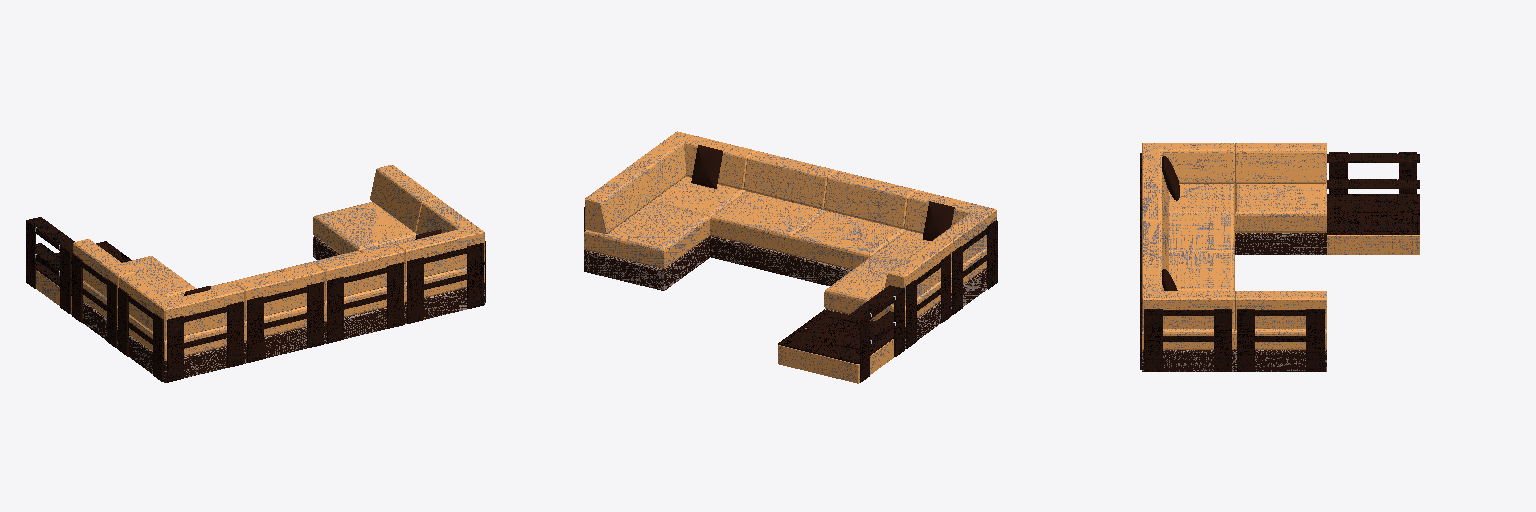
3 views of the same model, side by side, from view 1: azimuth 30°, elevation 25°; view 2: azimuth 150°, elevation 25°; view 3: azimuth 270°, elevation 25° (orthographic).
Visible parts, largest first — view 1: mesh10_mesh10-geometry, mesh14_mesh14-geometry, mesh3_mesh3-geometry, mesh2_mesh2-geometry, mesh11_mesh11-geometry, mesh12_mesh12-geometry, mesh13_mesh13-geometry, mesh1_mesh1-geometry, mesh6_mesh6-geometry; view 2: mesh10_mesh10-geometry, mesh14_mesh14-geometry, mesh11_mesh11-geometry, mesh13_mesh13-geometry, mesh12_mesh12-geometry, mesh8_mesh8-geometry, mesh7_mesh7-geometry, mesh3_mesh3-geometry, mesh2_mesh2-geometry, mesh15_mesh15-geometry, mesh6_mesh6-geometry, mesh1_mesh1-geometry; view 3: mesh10_mesh10-geometry, mesh14_mesh14-geometry, mesh11_mesh11-geometry, mesh12_mesh12-geometry, mesh13_mesh13-geometry, mesh8_mesh8-geometry, mesh2_mesh2-geometry, mesh3_mesh3-geometry, mesh7_mesh7-geometry, mesh6_mesh6-geometry, mesh1_mesh1-geometry, mesh9_mesh9-geometry.
Part boxes in pixels (left/top/right/bottom): mesh10_mesh10-geometry: left=83, top=202, right=484, bottom=360; mesh14_mesh14-geometry: left=73, top=165, right=437, bottom=320; mesh3_mesh3-geometry: left=26, top=220, right=485, bottom=382; mesh2_mesh2-geometry: left=60, top=243, right=483, bottom=381; mesh11_mesh11-geometry: left=83, top=236, right=484, bottom=382; mesh12_mesh12-geometry: left=119, top=229, right=484, bottom=339; mesh13_mesh13-geometry: left=165, top=198, right=484, bottom=340; mesh1_mesh1-geometry: left=35, top=228, right=467, bottom=348; mesh6_mesh6-geometry: left=28, top=217, right=74, bottom=280; mesh10_mesh10-geometry: left=584, top=177, right=986, bottom=326; mesh14_mesh14-geometry: left=585, top=151, right=949, bottom=305; mesh11_mesh11-geometry: left=584, top=235, right=986, bottom=348; mesh13_mesh13-geometry: left=632, top=132, right=993, bottom=233; mesh12_mesh12-geometry: left=677, top=131, right=996, bottom=272; mesh8_mesh8-geometry: left=778, top=309, right=873, bottom=360; mesh7_mesh7-geometry: left=778, top=328, right=893, bottom=383; mesh3_mesh3-geometry: left=860, top=246, right=962, bottom=382; mesh2_mesh2-geometry: left=584, top=207, right=997, bottom=356; mesh15_mesh15-geometry: left=691, top=145, right=954, bottom=240; mesh6_mesh6-geometry: left=843, top=285, right=902, bottom=349; mesh1_mesh1-geometry: left=870, top=228, right=987, bottom=345; mesh10_mesh10-geometry: left=1142, top=183, right=1326, bottom=349; mesh14_mesh14-geometry: left=1142, top=143, right=1326, bottom=328; mesh11_mesh11-geometry: left=1142, top=233, right=1326, bottom=371; mesh12_mesh12-geometry: left=1142, top=143, right=1234, bottom=328; mesh13_mesh13-geometry: left=1142, top=143, right=1234, bottom=328; mesh8_mesh8-geometry: left=1327, top=202, right=1419, bottom=234; mesh2_mesh2-geometry: left=1140, top=152, right=1347, bottom=371; mesh3_mesh3-geometry: left=1140, top=152, right=1416, bottom=371; mesh7_mesh7-geometry: left=1327, top=235, right=1419, bottom=254; mesh6_mesh6-geometry: left=1327, top=154, right=1419, bottom=188; mesh1_mesh1-geometry: left=1141, top=153, right=1398, bottom=341; mesh9_mesh9-geometry: left=1327, top=194, right=1419, bottom=201.
Size of the model in its own units: 0.7887 by 0.1751 by 0.5893.
Materials: 7 (2 with a texture image).